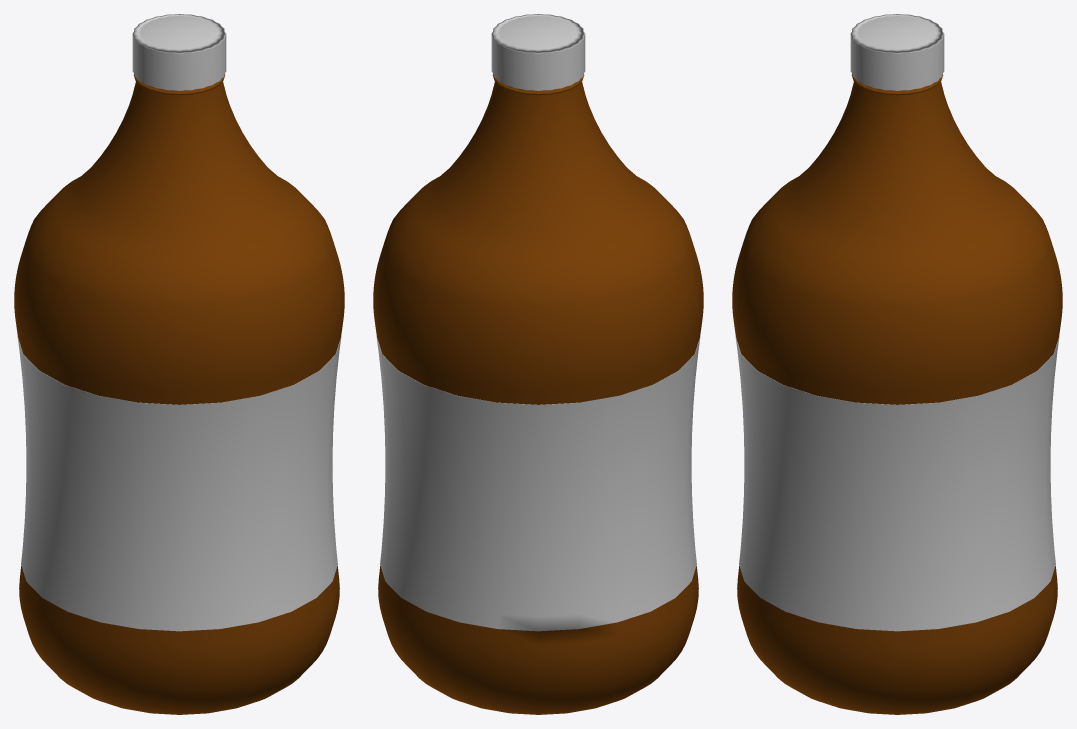
3 renders of one model, left to right at view 1: azimuth 30°, elevation 25°; view 2: azimuth 150°, elevation 25°; view 3: azimuth 270°, elevation 25°, orthographic.
Visible parts, largest first — view 1: mesh1_mesh1-geometry; view 2: mesh1_mesh1-geometry; view 3: mesh1_mesh1-geometry.
Part boxes in pixels (left/top/right/bottom): mesh1_mesh1-geometry: left=14, top=14, right=344, bottom=714; mesh1_mesh1-geometry: left=373, top=14, right=703, bottom=714; mesh1_mesh1-geometry: left=732, top=14, right=1062, bottom=714.
Size of the model in its own units: 0.3875 by 0.8365 by 0.3875.
